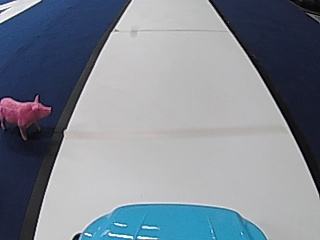pig: (0, 90, 53, 139)
